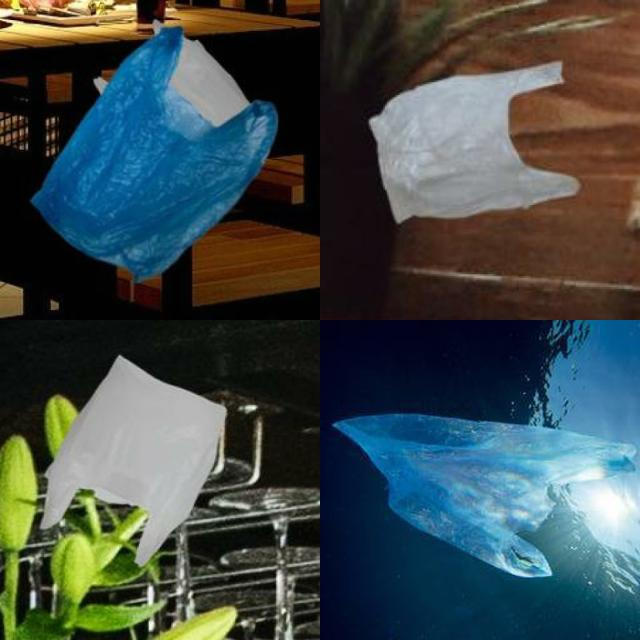Single-layer Plastic: (32, 28, 278, 279), (334, 414, 636, 577), (41, 356, 226, 565), (369, 61, 580, 223)
